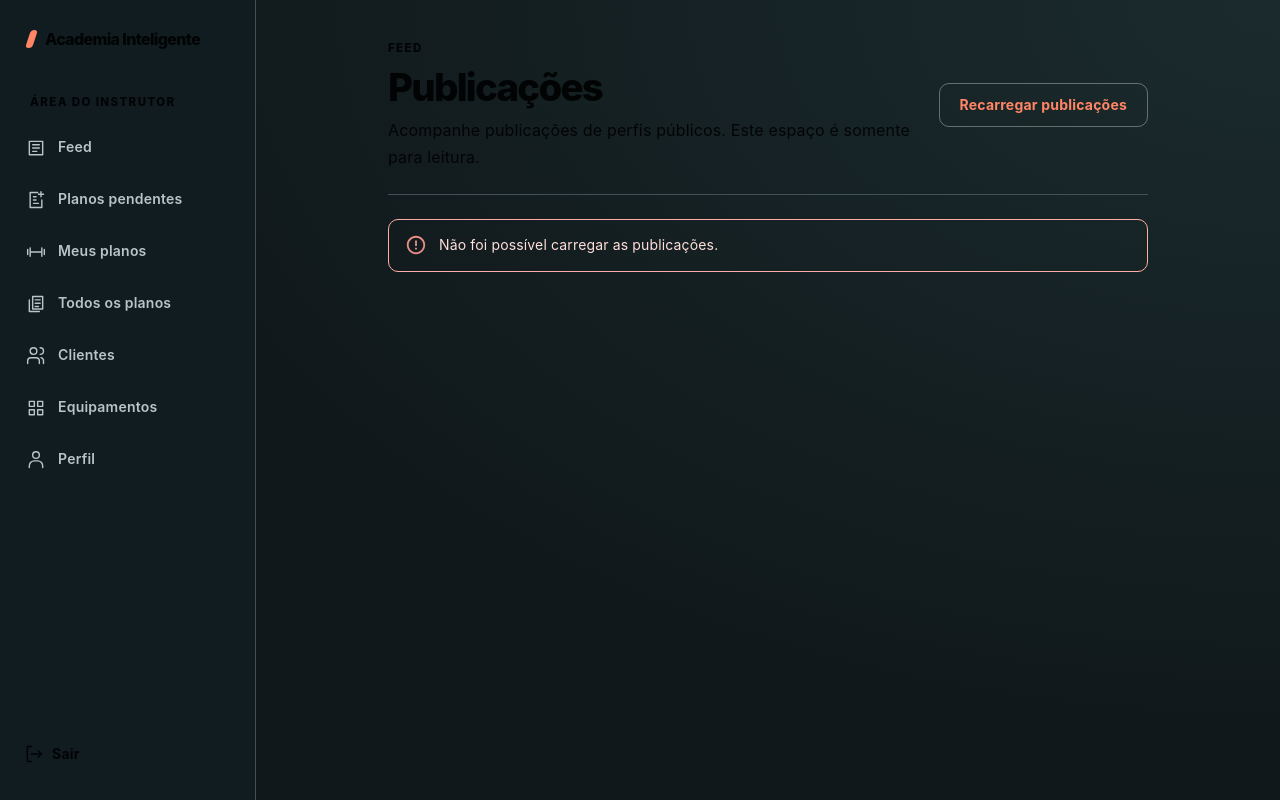
Test case: failed feed ends processing and supports retry
The width and height of the screenshot is (1280, 800).
Expected: the text "Não foi possível carregar as publicações." is shown, [439,236,718,253]
Click the button "Recarregar publicações" at (1043, 105), box [938,83,1148,127]
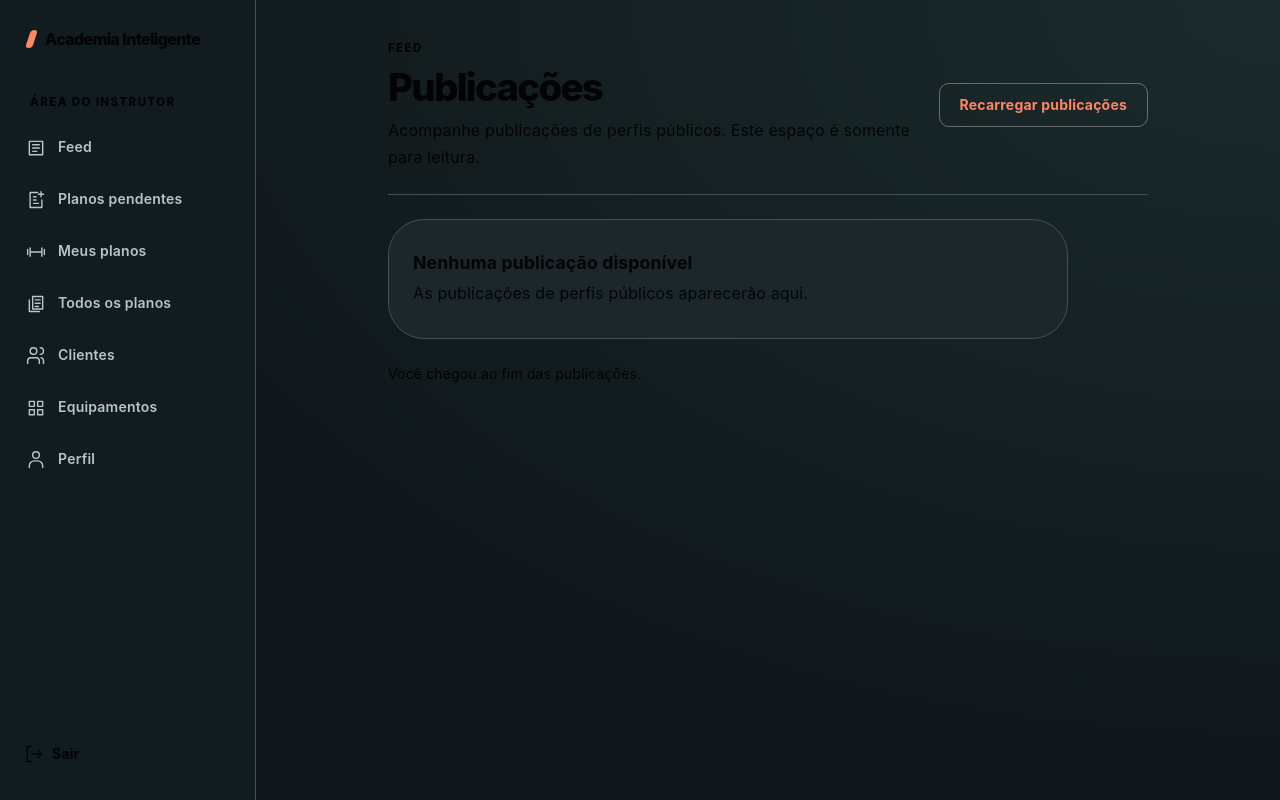
Expected: the heading "Nenhuma publicação disponível" is shown, [413,252,692,274]
